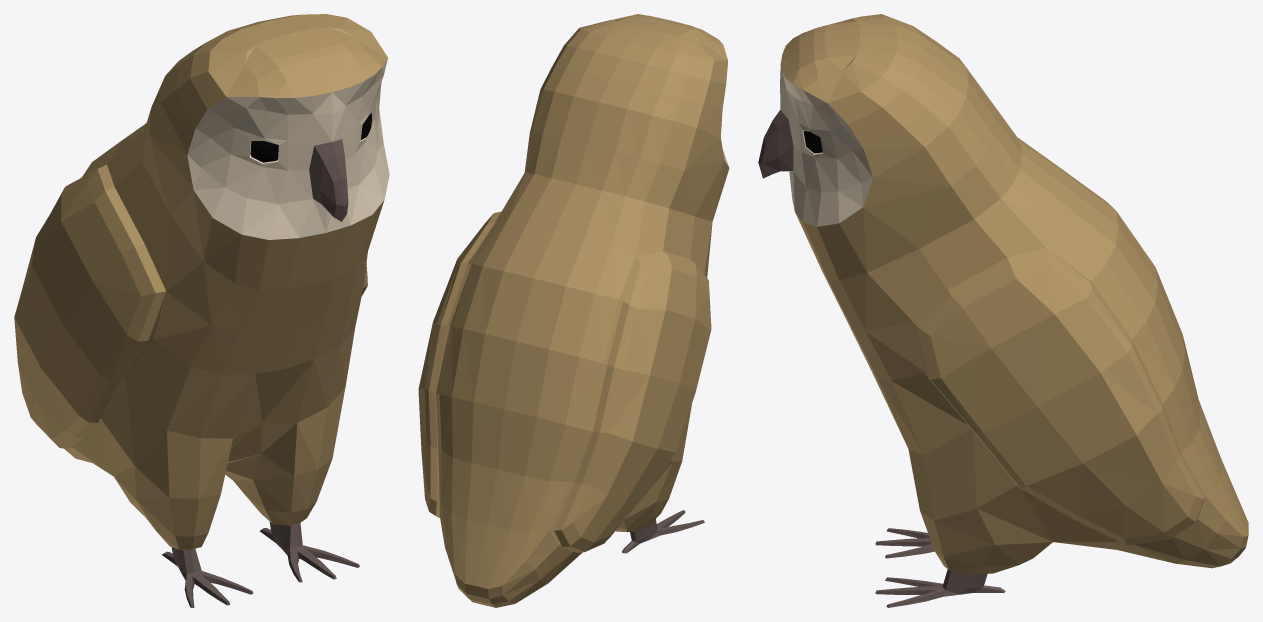
File: Owl.fbx
3 views of the same model, side by side, from view 1: azimuth 30°, elevation 25°; view 2: azimuth 150°, elevation 25°; view 3: azimuth 270°, elevation 25° (orthographic). The views are drawn at different scales.
Parts seen in each view (by area): view 1: TriangulatedOwl; view 2: TriangulatedOwl; view 3: TriangulatedOwl.
Boxes of the visible parts, box(x1,y1,x2,y2) form: TriangulatedOwl: box(14, 14, 389, 607); TriangulatedOwl: box(418, 14, 729, 607); TriangulatedOwl: box(758, 14, 1248, 607).
Bounding box in the file's own units: 18.56 × 37.67 × 31.44.
